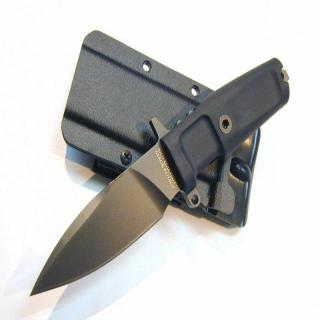knife: (27, 140, 179, 300)
